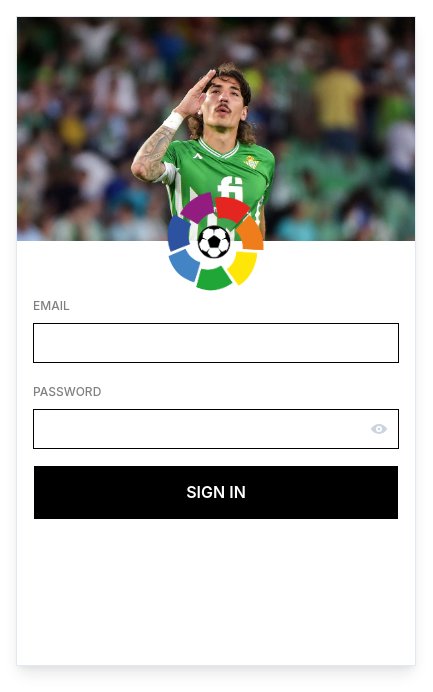
Test case: testing login › the email input is filled, but is not valid
This screenshot has width=433, height=692.
Step 1. Type "badEmail" into the field named "Email input" → (216, 343), box [33,323,399,363]
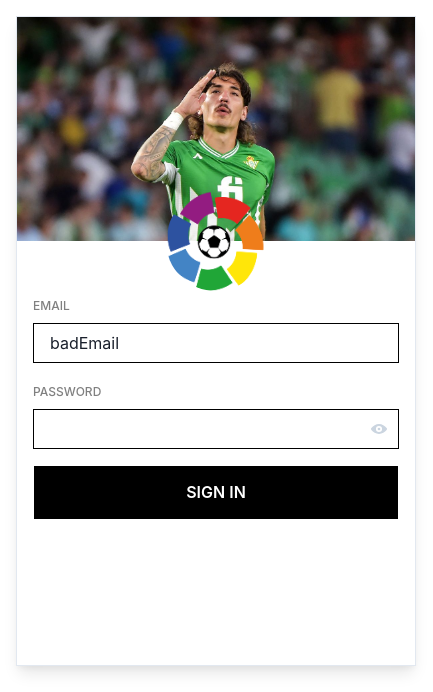
Step 2. Click the button "Sign In" → (216, 492), box [33,465,399,520]
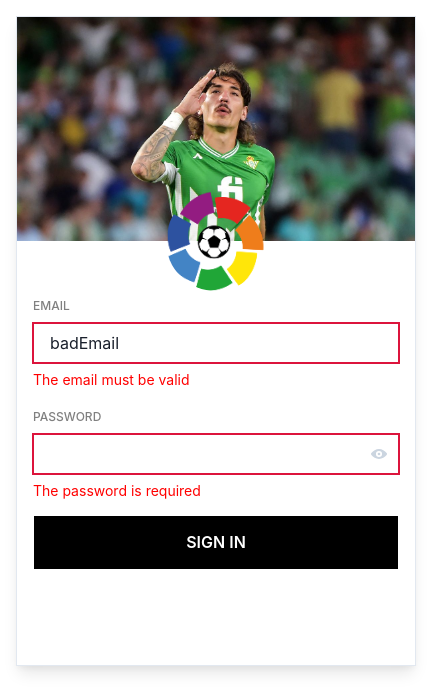
Now the text "The email must be valid" is shown, box [33,371,190,388]
